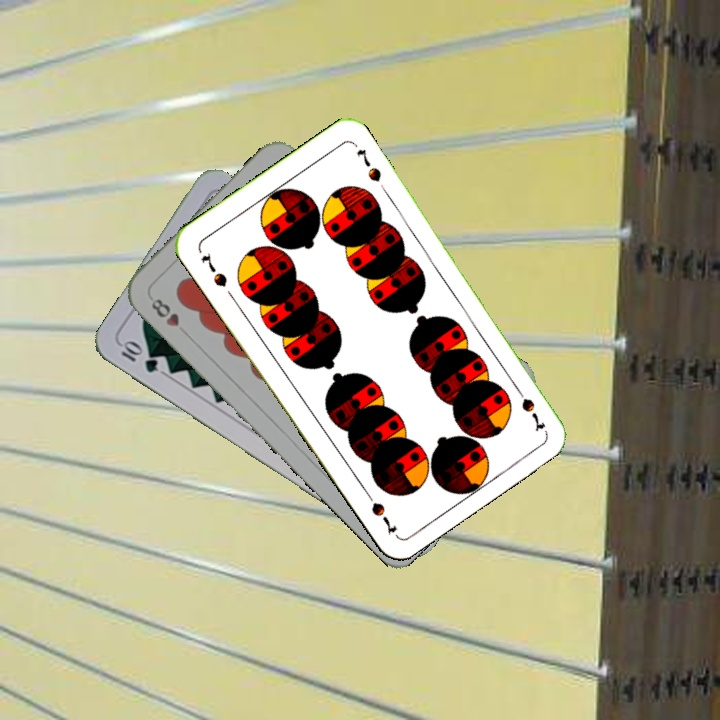G10: (117, 337, 161, 376)
H8: (147, 294, 182, 329)
S7: (510, 380, 548, 434), (197, 248, 230, 290)
